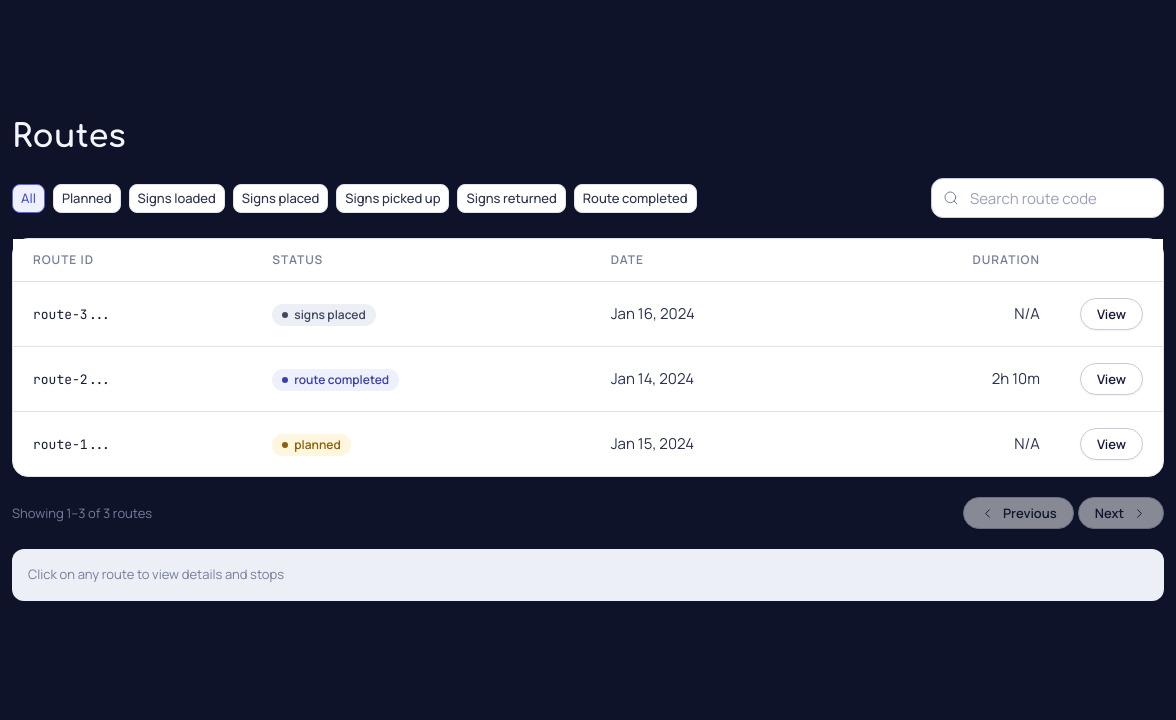
Test: Customer Routes List Page › filters routes by route code search text
In the field labelled "Search route code": [1048, 198] box [931,178,1164,218], type "route-2"
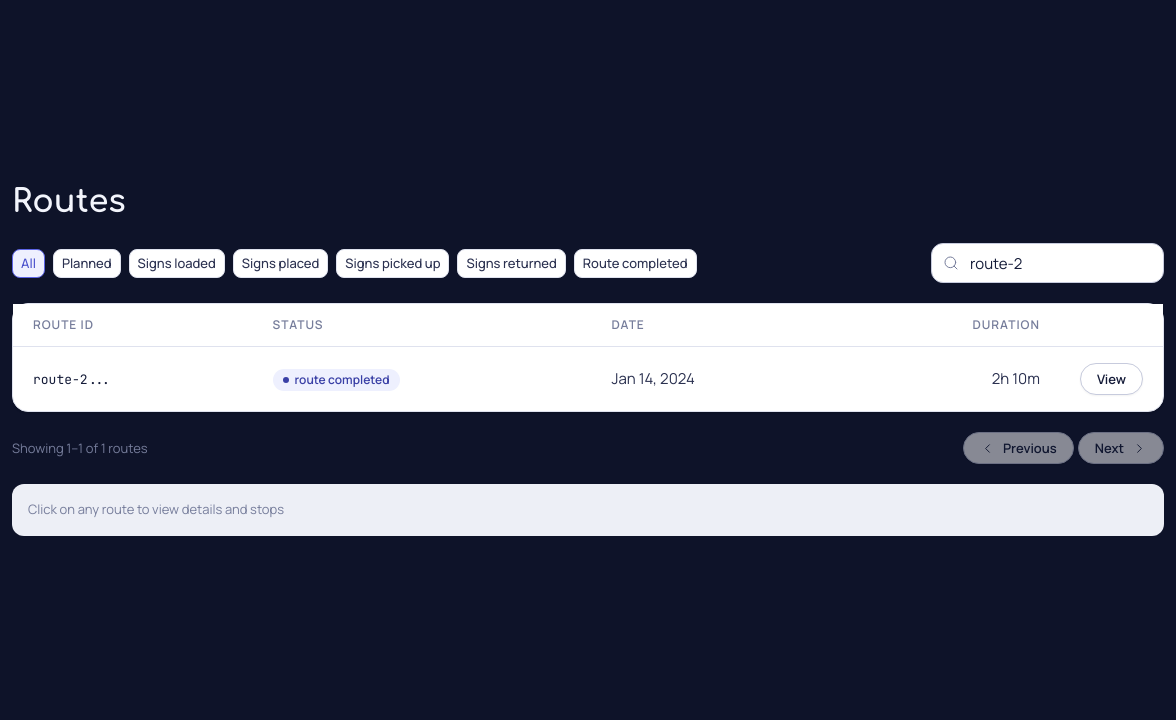
Expected: the text "Showing 1–1 of 1 routes" is shown, [12,439,148,458]
